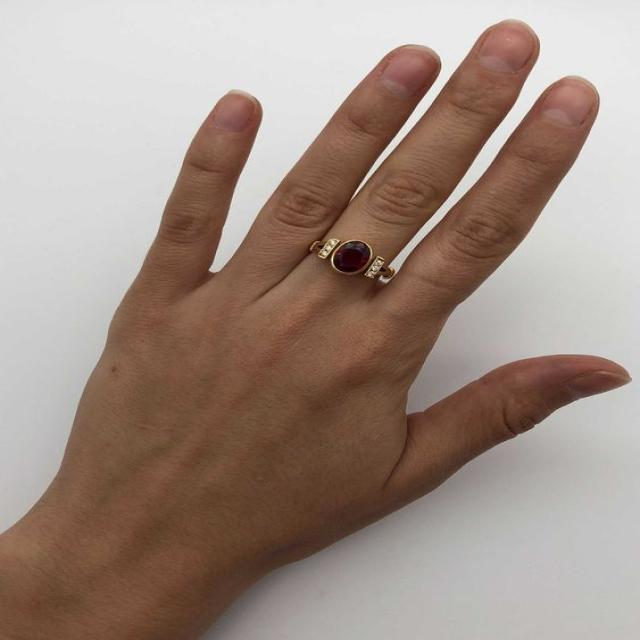Fingernail: (382, 47, 437, 96), (479, 23, 533, 71), (542, 78, 595, 126), (213, 91, 255, 132), (569, 372, 629, 397)
